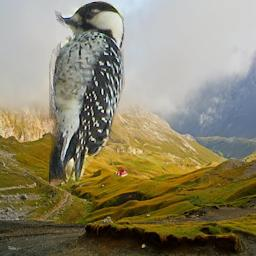Woodpecker: (49, 0, 125, 186)
